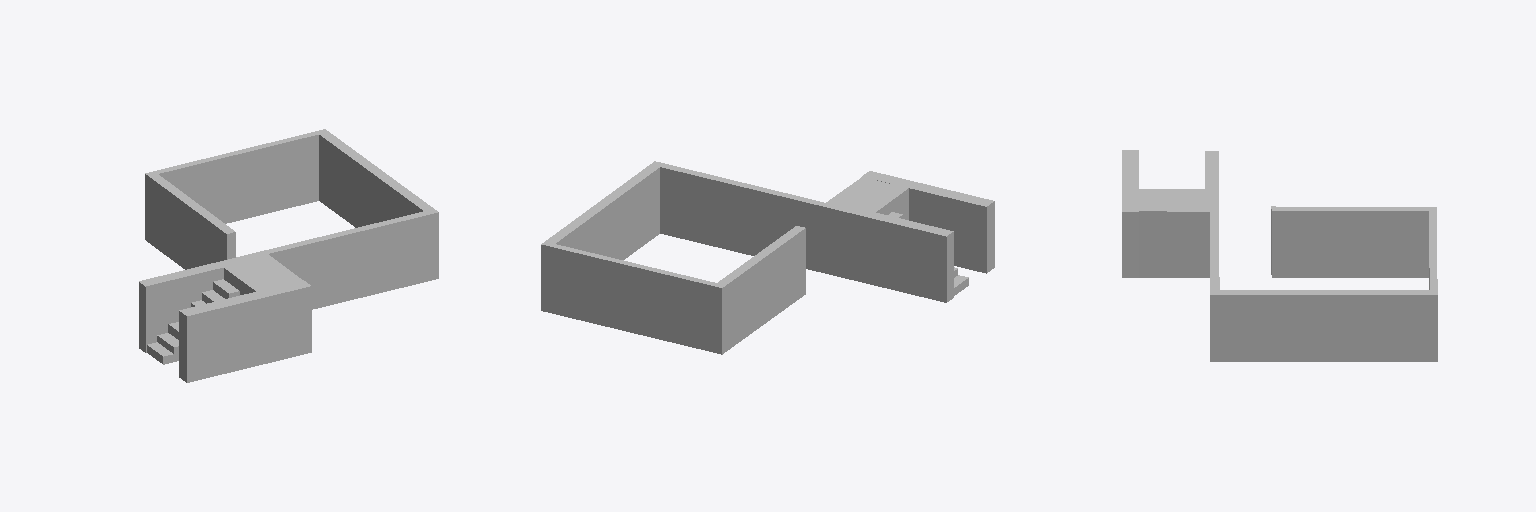
The model's file is bright_111_2.obj.
3 views of the same model, side by side, from view 1: azimuth 30°, elevation 25°; view 2: azimuth 150°, elevation 25°; view 3: azimuth 270°, elevation 25° (orthographic).
Parts seen in each view (by area): view 1: polySurface29; view 2: polySurface29; view 3: polySurface29.
Boxes of the visible parts, x1,y1,x2,y2 form: polySurface29: [139, 129, 438, 382]; polySurface29: [541, 161, 994, 354]; polySurface29: [1122, 150, 1437, 361].
Bounding box in the file's own units: 99.07 × 21.33 × 91.3.